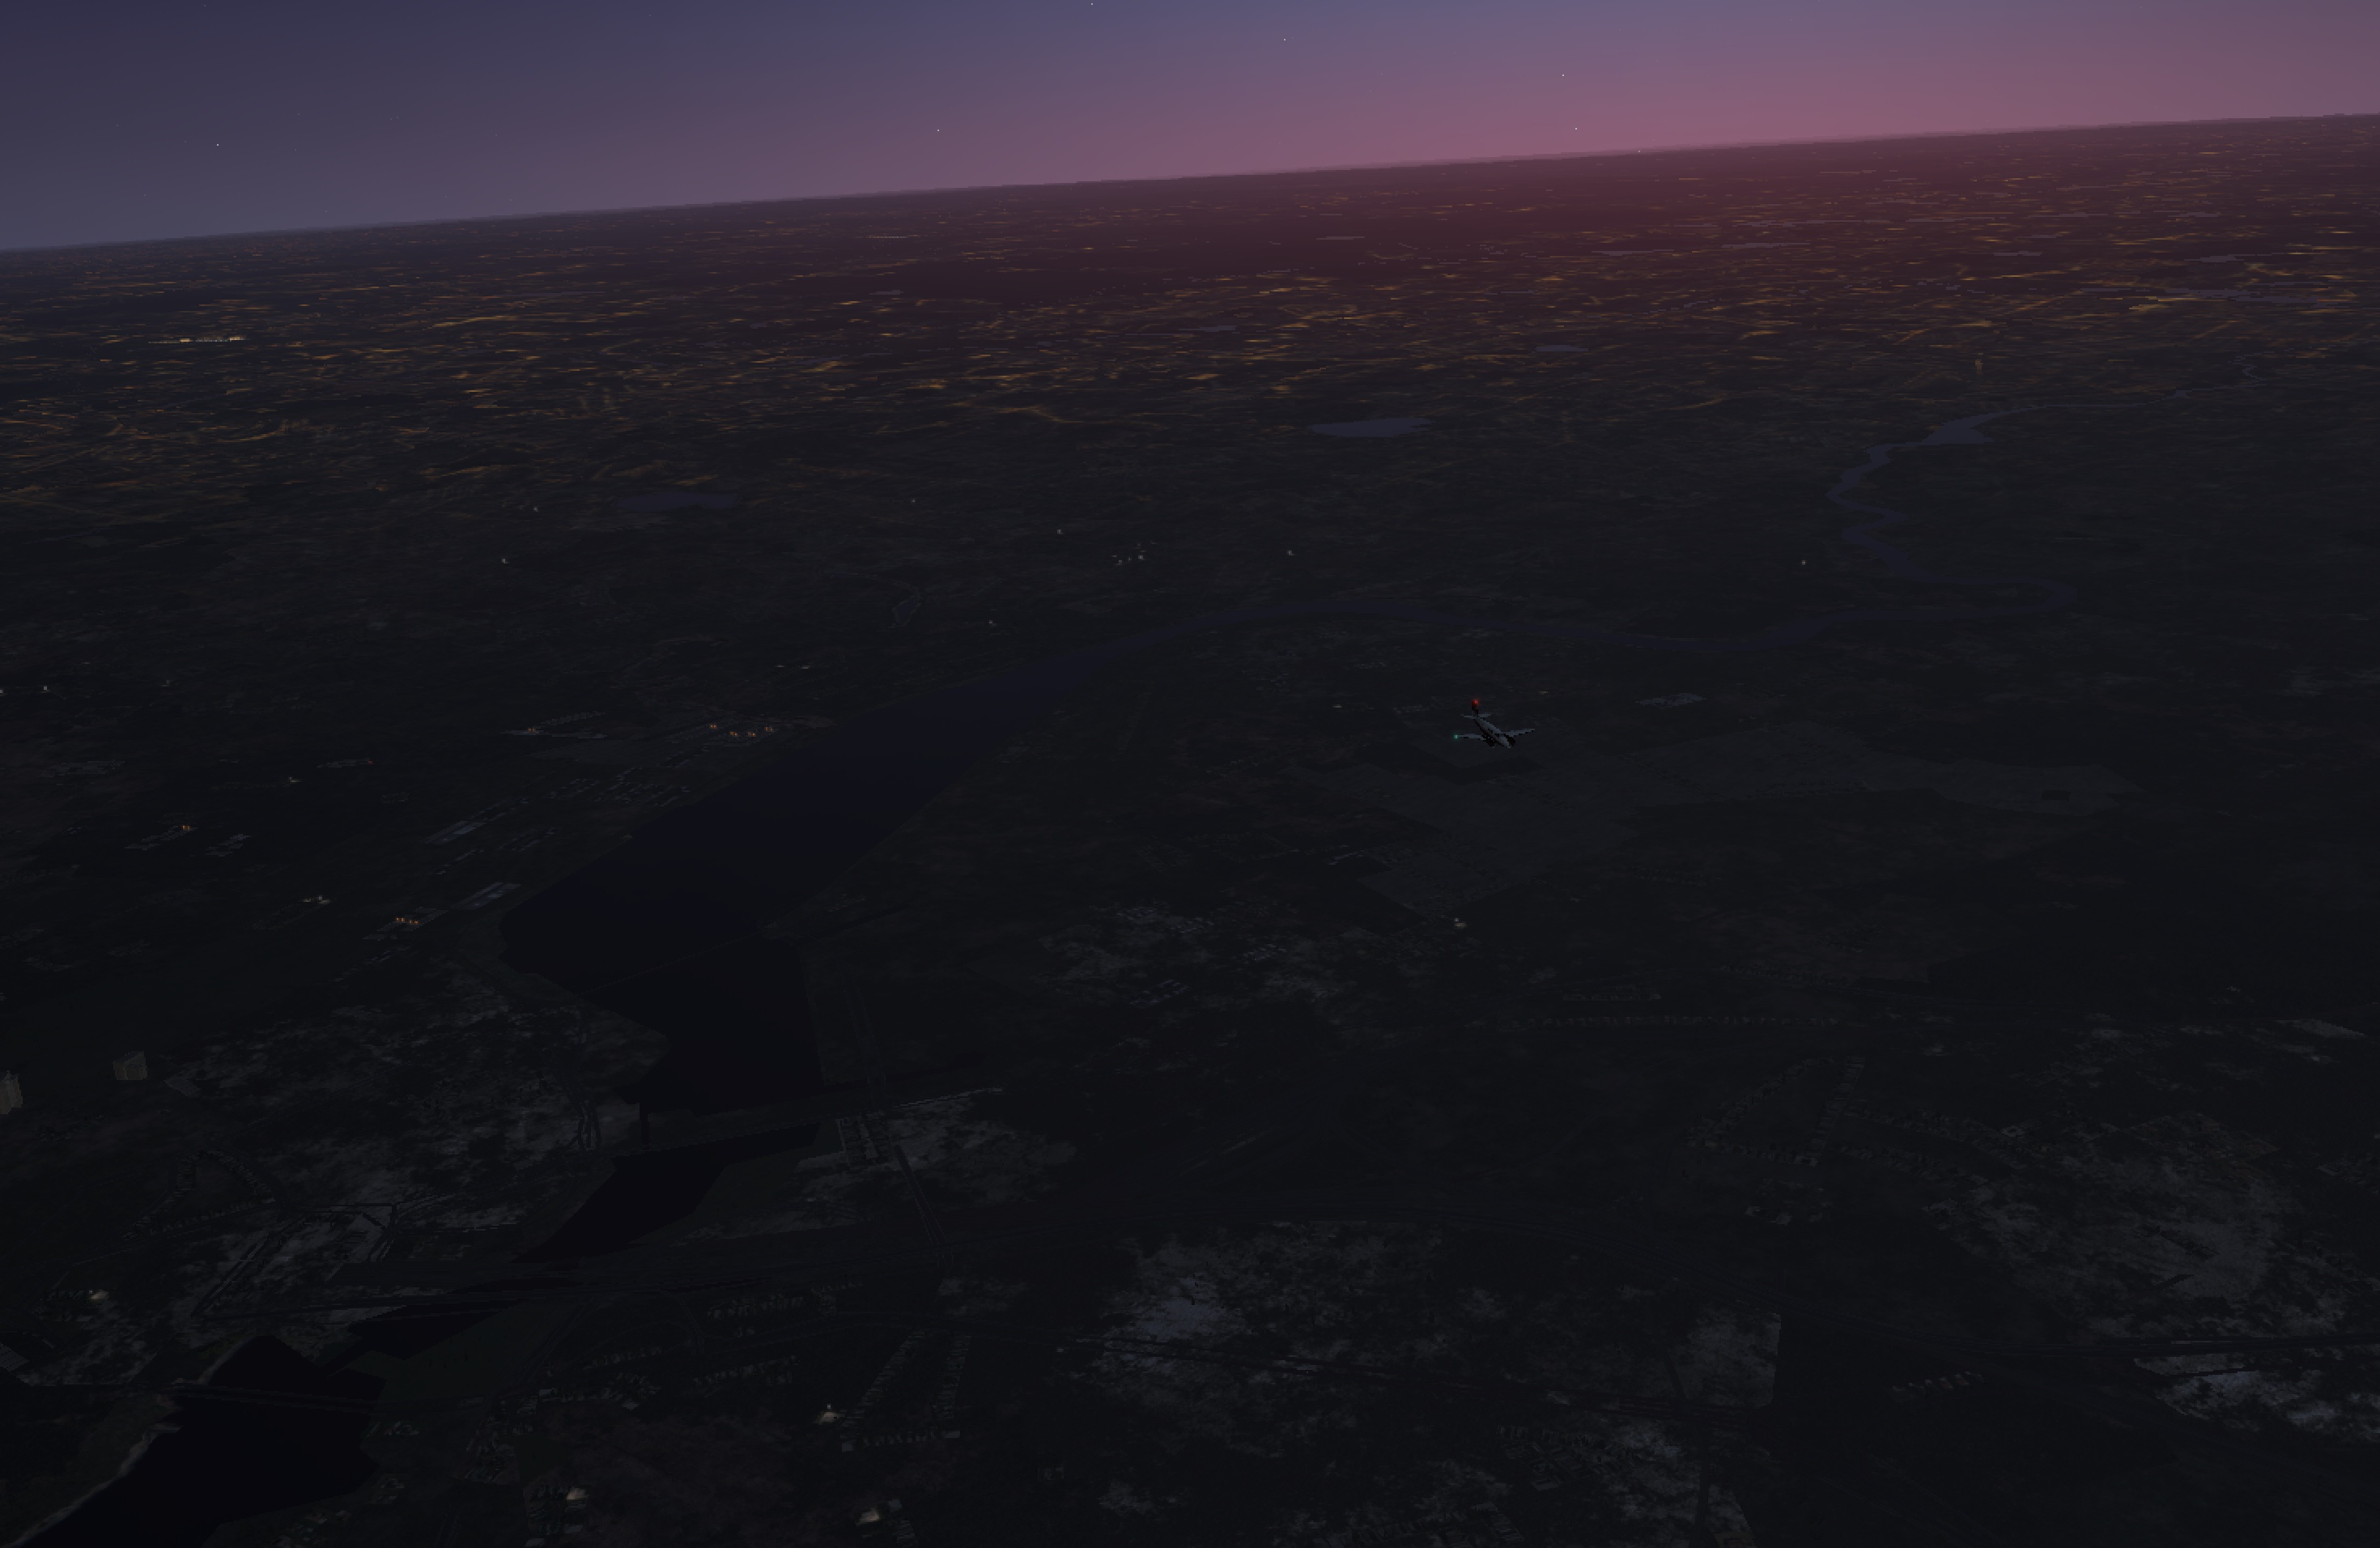aircraft: (1445, 720, 1546, 758)
